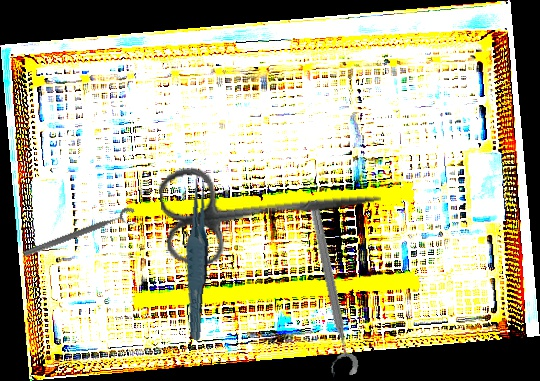Fixation Ring: (293, 198, 361, 380), (21, 205, 140, 267)
Iris Scissors: (156, 145, 387, 270)
Tissue Forceps: (176, 170, 220, 341)
